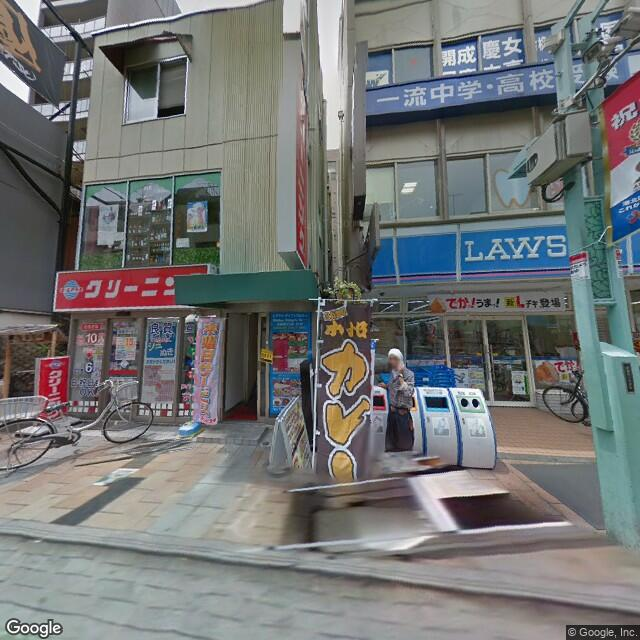lawson: (366, 219, 573, 281)
